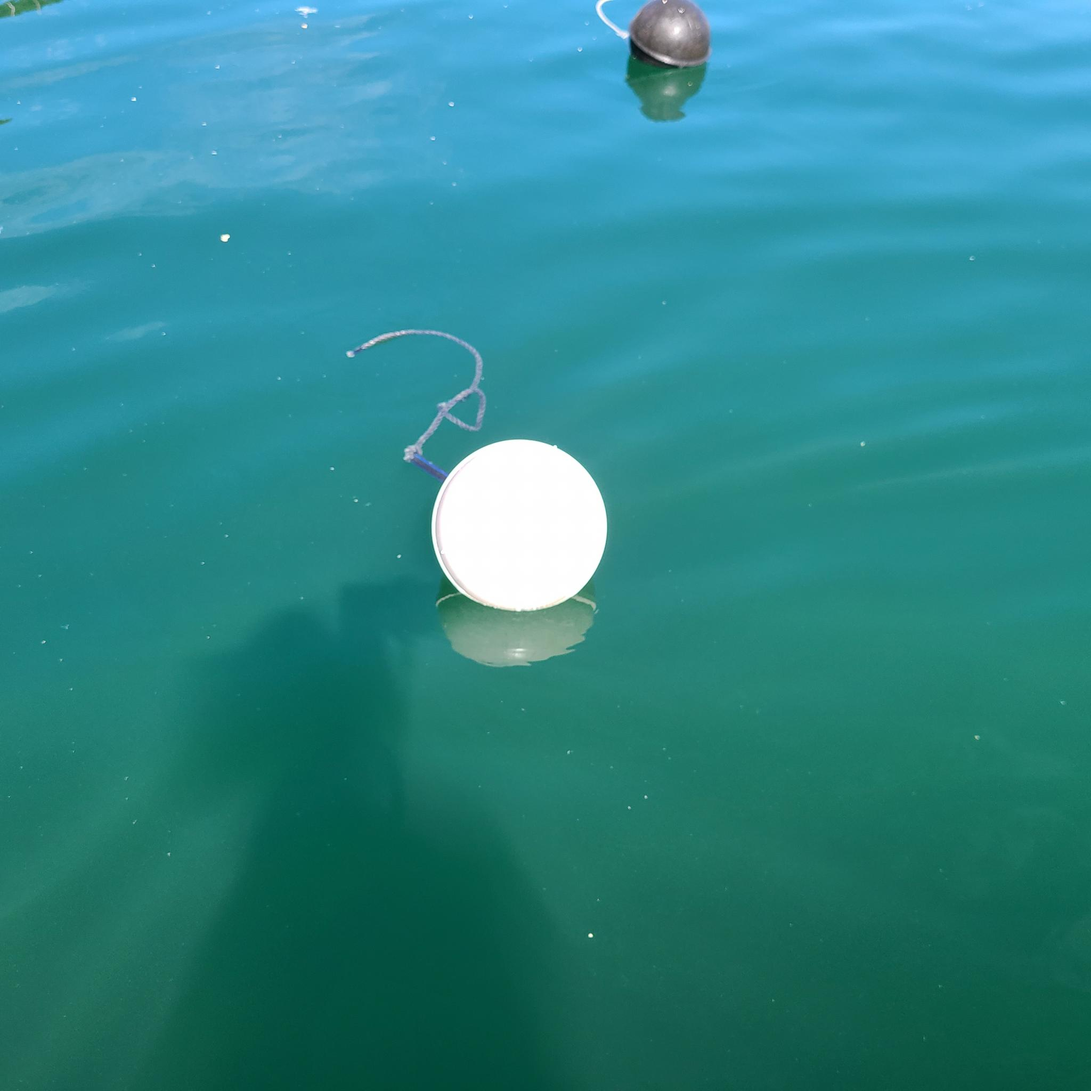sampah_terapung: (431, 440, 608, 613), (346, 329, 487, 463), (628, 1, 712, 70), (596, 1, 630, 40)
